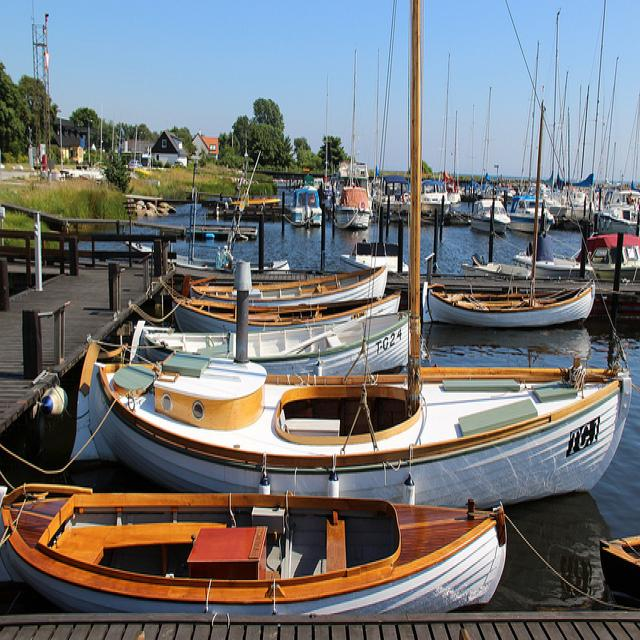Vehicle: (127, 160, 143, 172), (174, 161, 184, 167)
